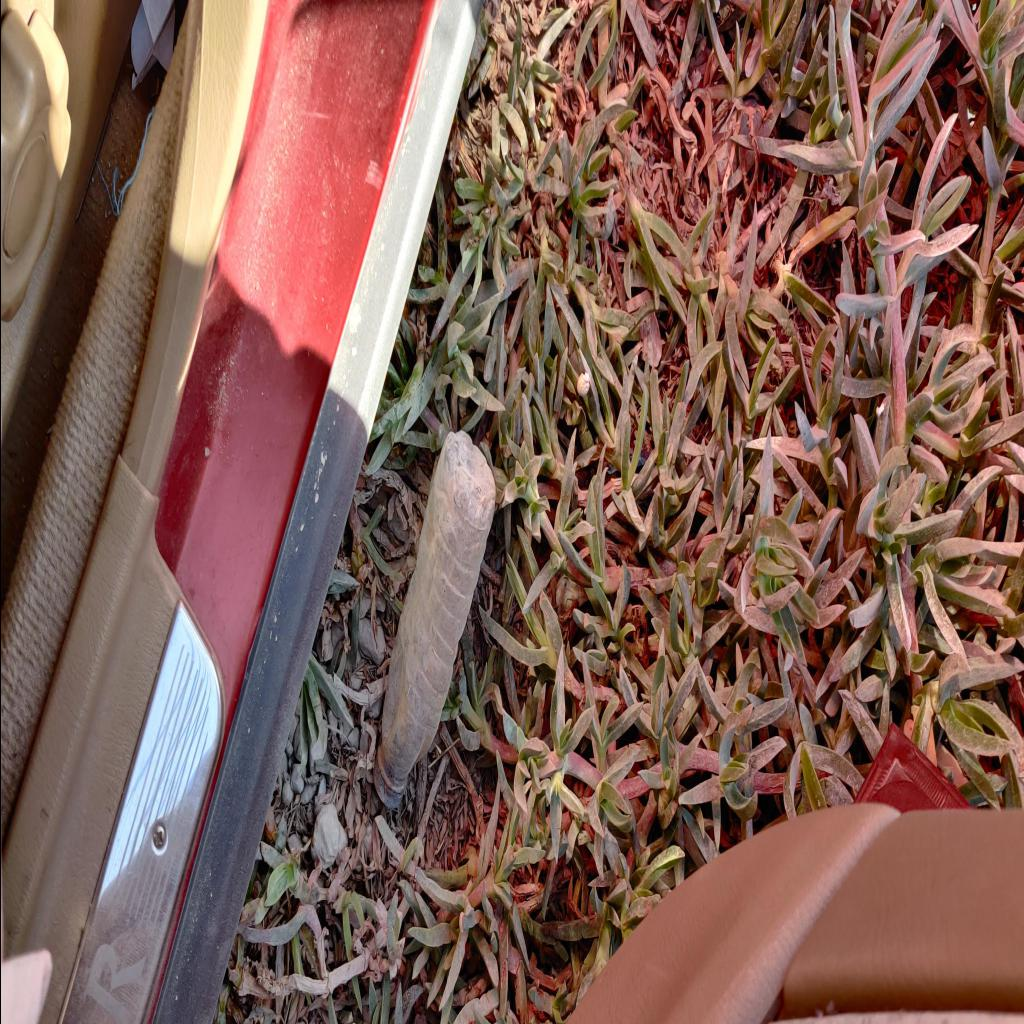Clear plastic bottle: (372, 428, 494, 810)
Normal paper: (130, 2, 174, 90)
Plastic bottle cap: (372, 759, 400, 812)
Rope - strings: (96, 105, 152, 219)
